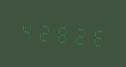eight: (54, 19, 71, 47)
four: (18, 16, 35, 44)
six: (90, 22, 107, 50)
two: (36, 17, 53, 46), (72, 20, 89, 49)
